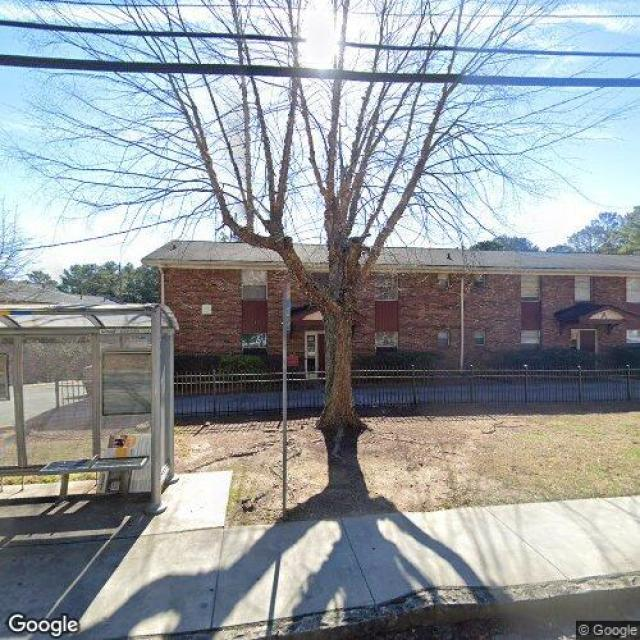seating: (40, 454, 148, 502)
shelter: (0, 304, 179, 522)
